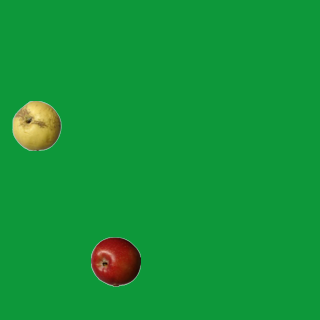Apple Braeburn: (90, 236, 140, 286)
Apple Golden 1: (11, 100, 61, 150)
